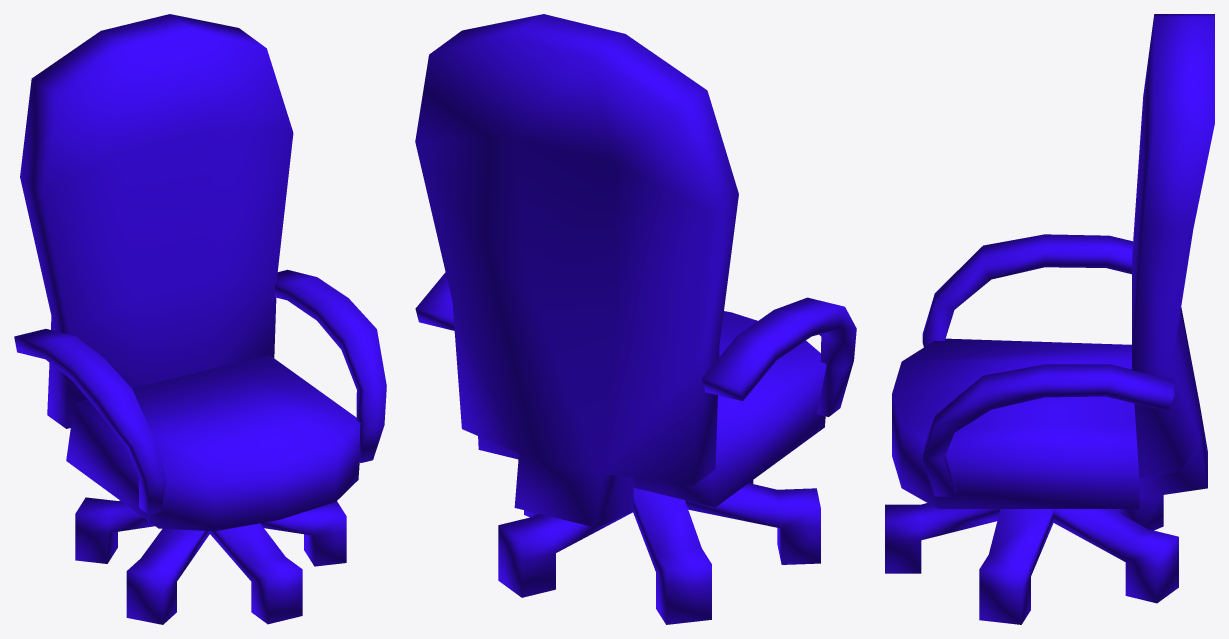
File: office_pack_boss_chair_1_meshCollider.fbx
3 views of the same model, side by side, from view 1: azimuth 30°, elevation 25°; view 2: azimuth 150°, elevation 25°; view 3: azimuth 270°, elevation 25° (orthographic). The views are drawn at different scales.
Visible parts, largest first — view 1: office_pack_boss_chair_1_meshCollider; view 2: office_pack_boss_chair_1_meshCollider; view 3: office_pack_boss_chair_1_meshCollider.
Part boxes in pixels (x1,y1,x2,y2): office_pack_boss_chair_1_meshCollider: (14,14,386,624); office_pack_boss_chair_1_meshCollider: (415,14,856,624); office_pack_boss_chair_1_meshCollider: (885,14,1214,624).
Bounding box in the file's own units: 47.93 × 80.59 × 45.45.
